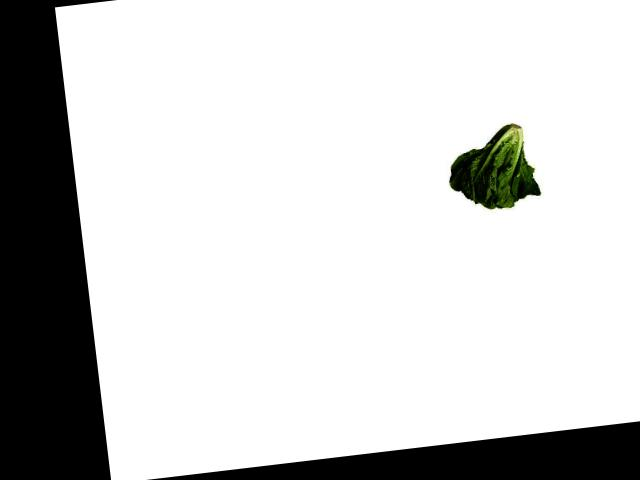lettuce: (441, 116, 544, 217)
